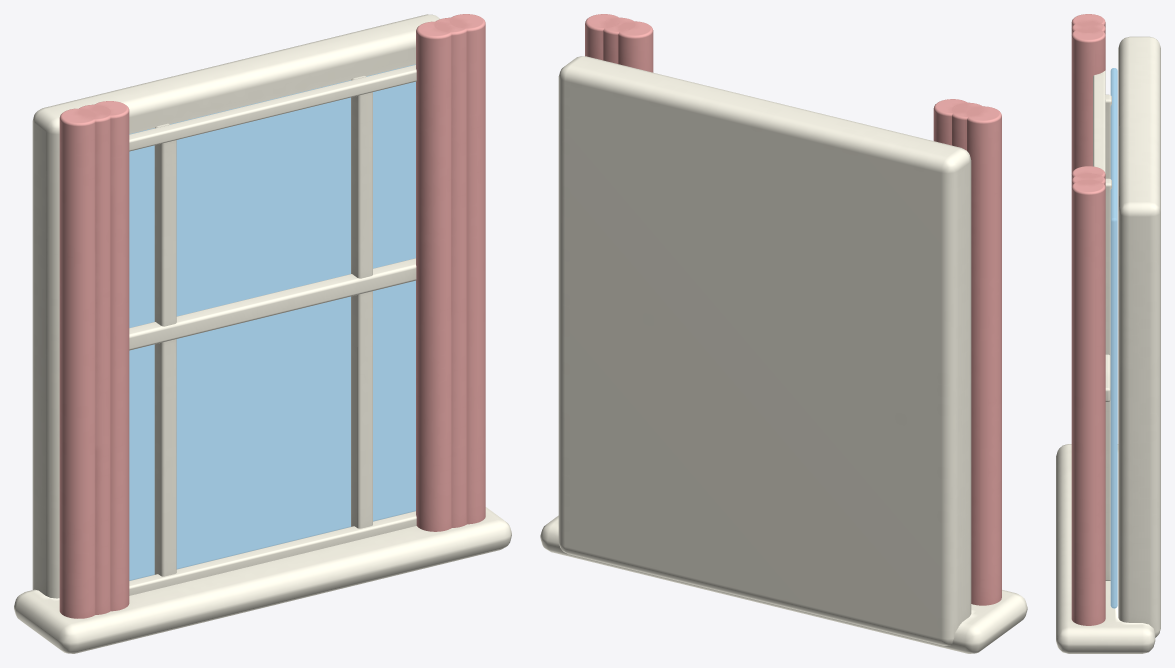
File: window11B.glb
3 views of the same model, side by side, from view 1: azimuth 30°, elevation 25°; view 2: azimuth 150°, elevation 25°; view 3: azimuth 270°, elevation 25° (orthographic). The views are drawn at different scales.
Parts seen in each view (by area): view 1: Window glass, Window frame, Sill, Curtain fold, Curtain fold.005, Curtain fold.002, Curtain fold.003, Window muntin, Window muntin.001, Curtain fold.004, Curtain fold.001, Window crossbar (+2 smaller); view 2: Window frame, Curtain fold, Sill, Curtain fold.005, Curtain fold.003, Curtain fold.002, Curtain fold.001, Curtain fold.004; view 3: Window frame, Curtain fold.003, Sill, Window glass, Curtain fold.002, Window muntin.001, Opening sash rail.001, Window muntin, Curtain fold.005, Curtain fold, Curtain fold.001, Window crossbar (+1 smaller).
Boxes of the visible parts, box(x1,y1,x2,y2) form: Window glass: box(129, 64, 415, 580); Window frame: box(32, 14, 440, 598); Sill: box(14, 507, 511, 653); Curtain fold: box(59, 108, 95, 618); Curtain fold.005: box(416, 21, 451, 531); Curtain fold.002: box(93, 101, 129, 611); Curtain fold.003: box(449, 14, 485, 524); Window muntin: box(154, 123, 176, 576); Window muntin.001: box(351, 75, 372, 528); Curtain fold.004: box(434, 17, 467, 527); Curtain fold.001: box(78, 104, 110, 614); Window crossbar: box(129, 258, 416, 350); Window frame: box(558, 56, 971, 645); Curtain fold: box(966, 106, 1001, 605); Sill: box(540, 515, 1027, 653); Curtain fold.005: box(618, 21, 653, 72); Curtain fold.003: box(585, 14, 619, 60); Curtain fold.002: box(933, 99, 968, 145); Curtain fold.001: box(951, 102, 983, 150); Curtain fold.004: box(603, 17, 635, 63); Window frame: box(1118, 36, 1160, 637); Curtain fold.003: box(1071, 179, 1105, 625); Sill: box(1056, 444, 1155, 653); Window glass: box(1110, 68, 1117, 608); Curtain fold.002: box(1071, 27, 1105, 173); Window muntin.001: box(1105, 178, 1111, 580); Opening sash rail.001: box(1093, 70, 1105, 173); Window muntin: box(1105, 94, 1111, 178); Curtain fold.005: box(1071, 166, 1105, 180); Curtain fold: box(1071, 14, 1105, 27); Curtain fold.001: box(1071, 20, 1105, 34); Window crossbar: box(1105, 354, 1110, 402).
Bounding box in the file's own units: 1.61 × 1.78 × 0.37.
